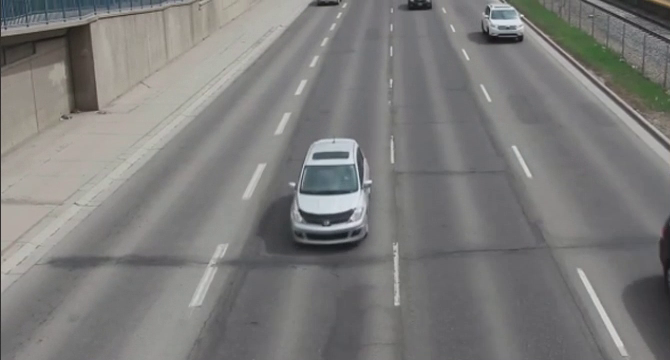car: (285, 137, 377, 252), (476, 1, 536, 44)
